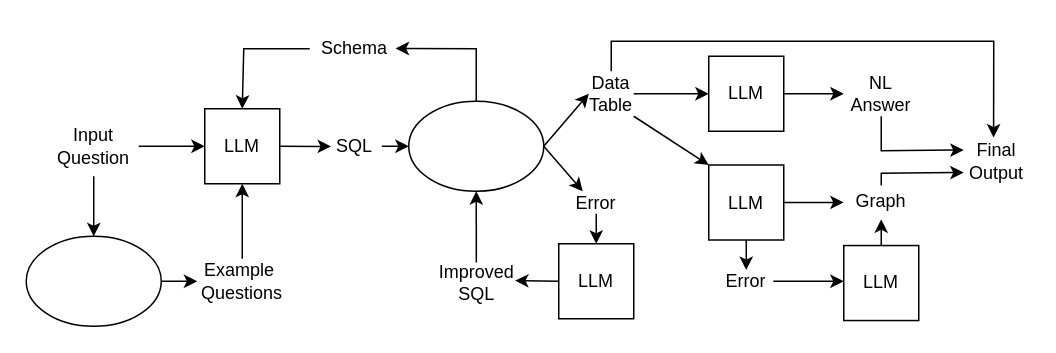
This 1056x353 diagram has some shape labels left out. Each missing label, with the centre of its shape:
ChromaDB: the point at 93,280
Snowflake: the point at 475,145
